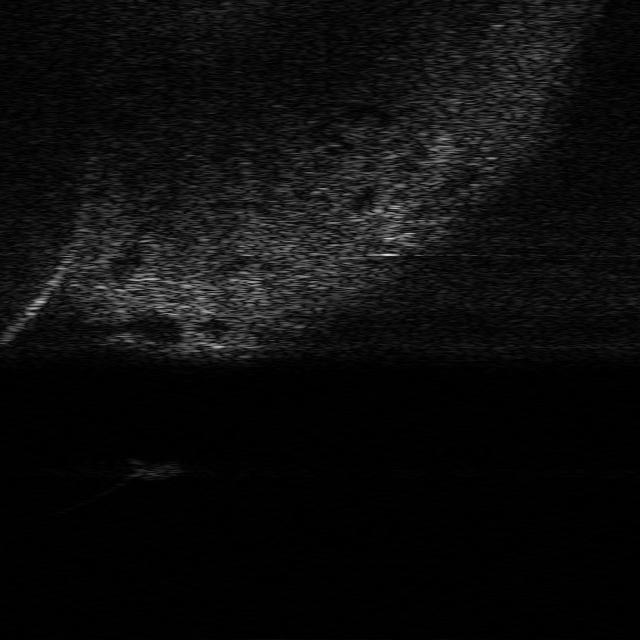cube: (126, 457, 182, 481)
